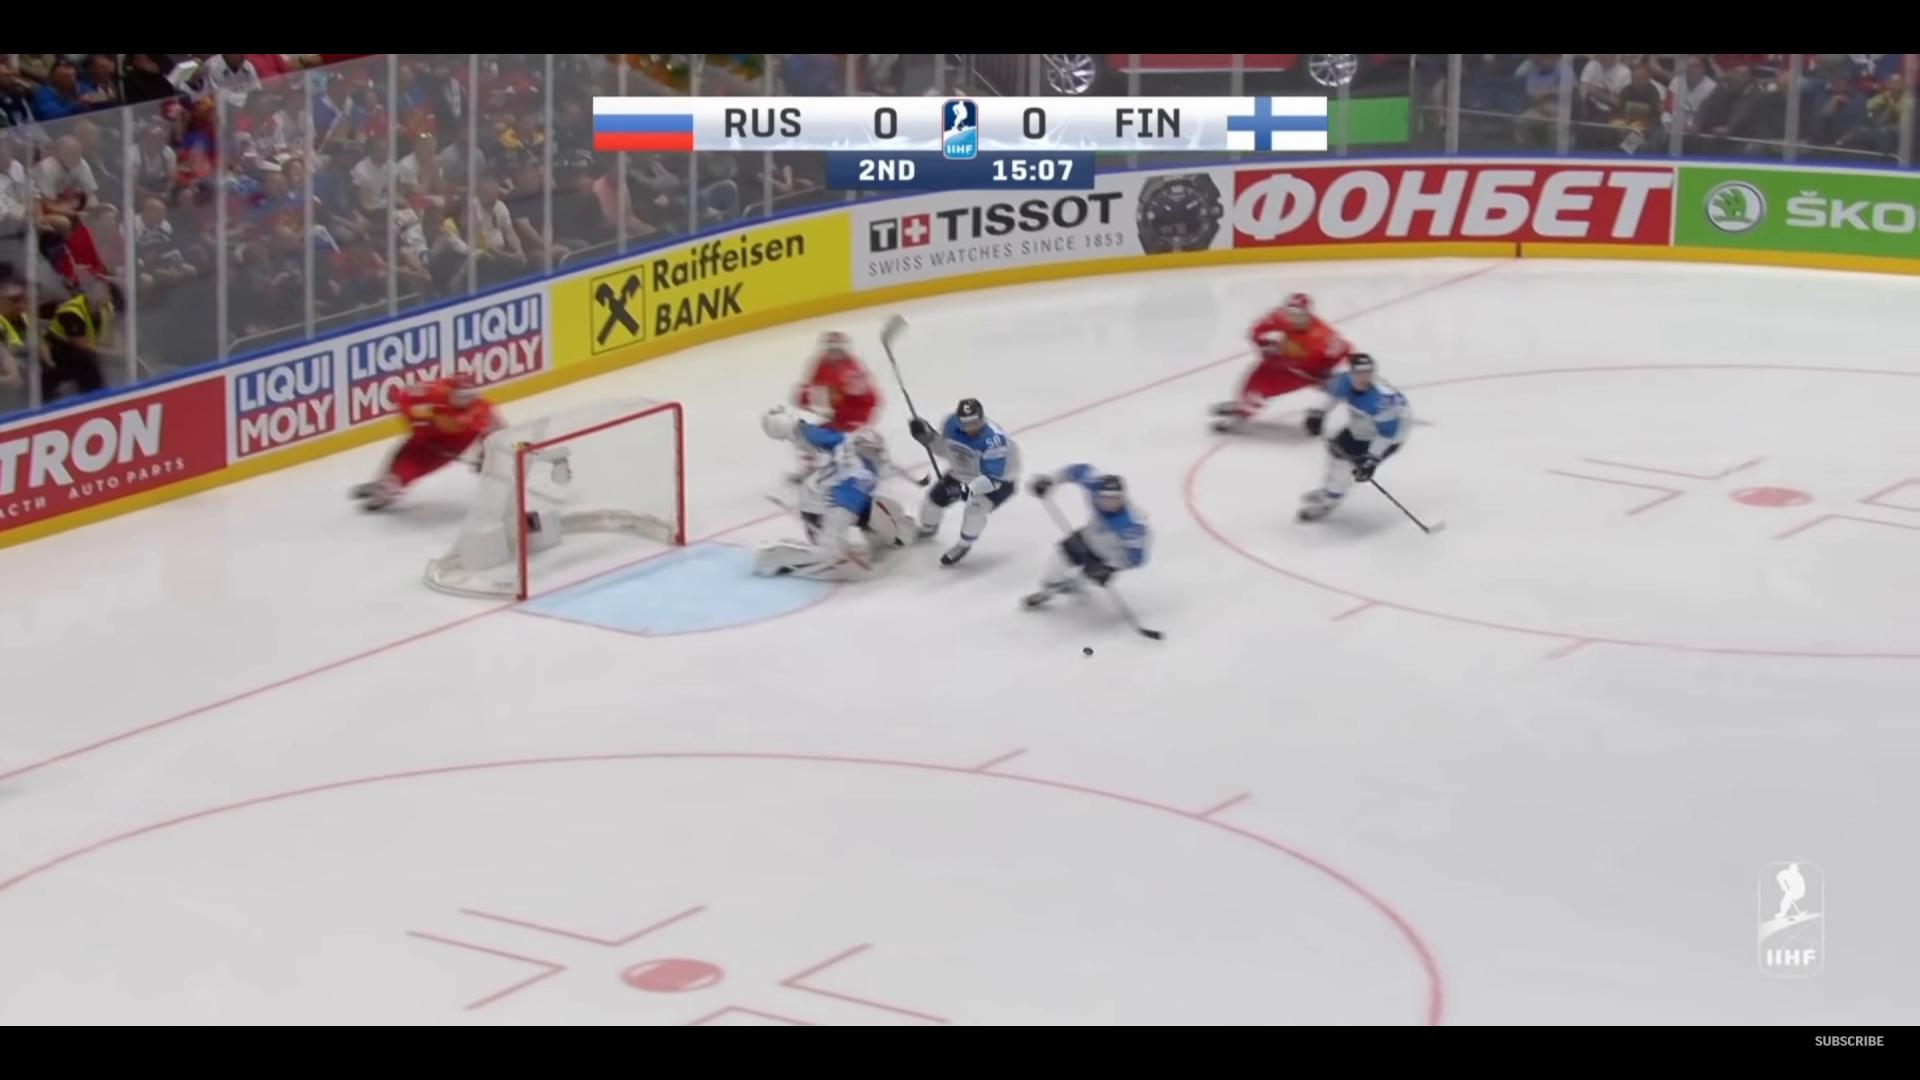puck: (1081, 646, 1093, 655)
